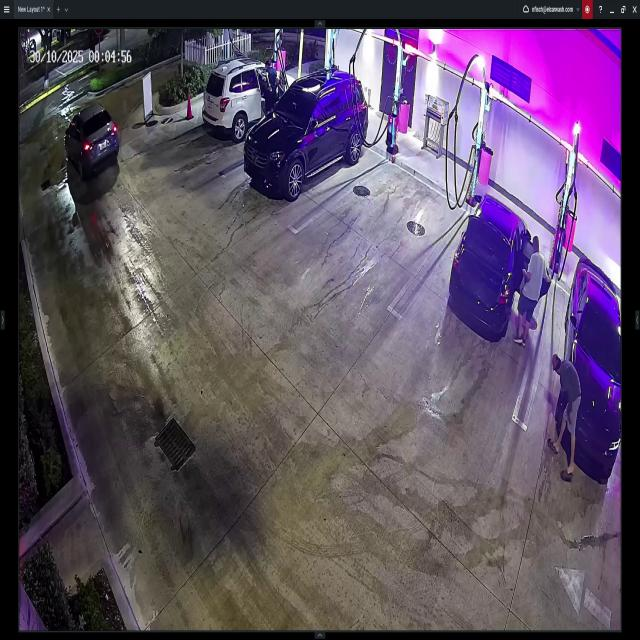Car: (246, 69, 368, 197), (448, 196, 548, 338), (564, 256, 627, 476), (207, 53, 297, 136), (66, 102, 120, 176)
